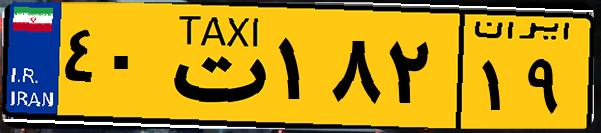0: (110, 28, 158, 98)
1: (270, 28, 330, 110), (475, 38, 525, 113)
2: (385, 28, 445, 110)
4: (57, 26, 110, 100)
8: (330, 28, 385, 110)
9: (525, 38, 570, 115)
ت: (158, 12, 270, 120)
